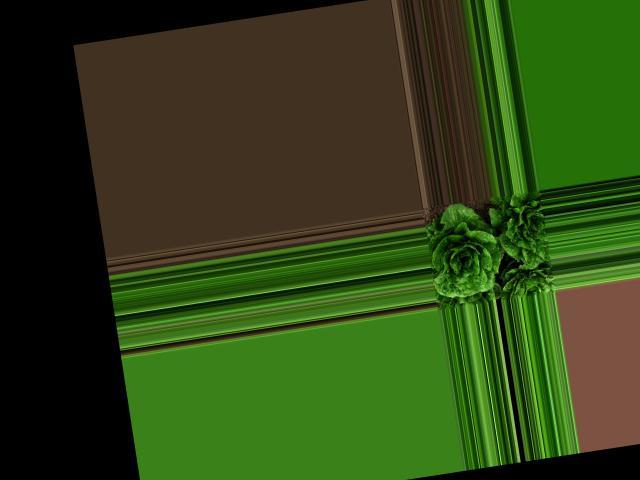lettuce: (493, 192, 553, 273)
